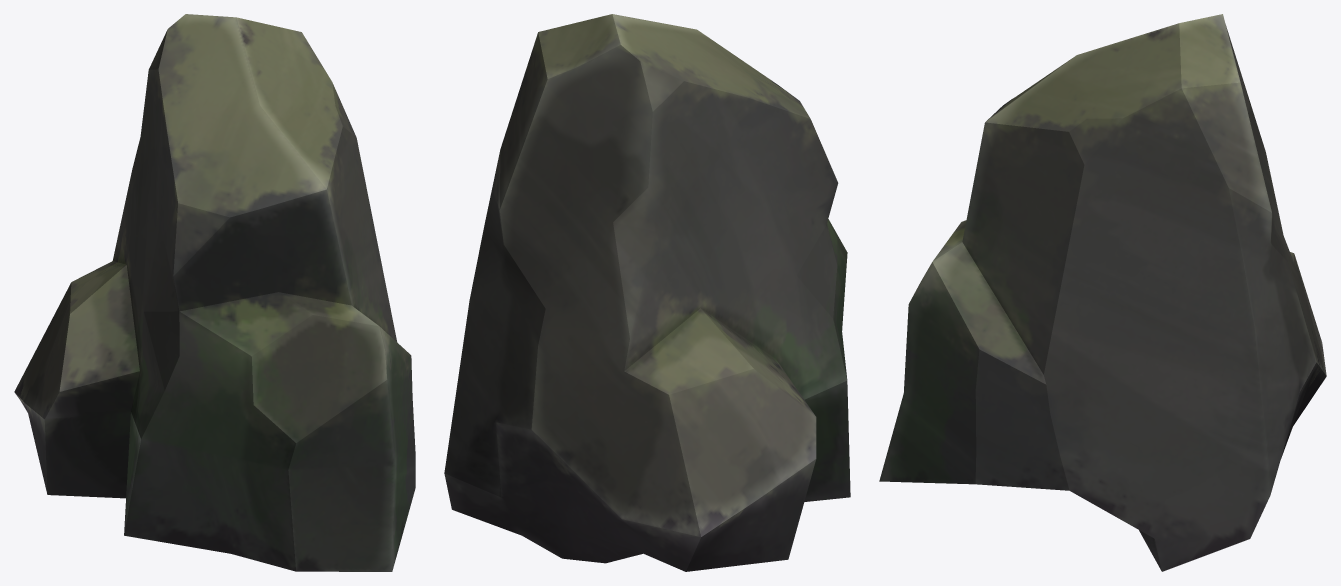
File: rock_1.glb
3 views of the same model, side by side, from view 1: azimuth 30°, elevation 25°; view 2: azimuth 150°, elevation 25°; view 3: azimuth 270°, elevation 25° (orthographic). The views are drawn at different scales.
Visible parts, largest first — view 1: Rock_1; view 2: Rock_1; view 3: Rock_1.
Boxes of the visible parts, box(x1,y1,x2,y2) form: Rock_1: box(14, 14, 415, 571); Rock_1: box(444, 14, 850, 571); Rock_1: box(879, 14, 1326, 571).
Size of the model in its own units: 0.7107 by 1.08 by 0.8874.
1 material, 1 textured.
